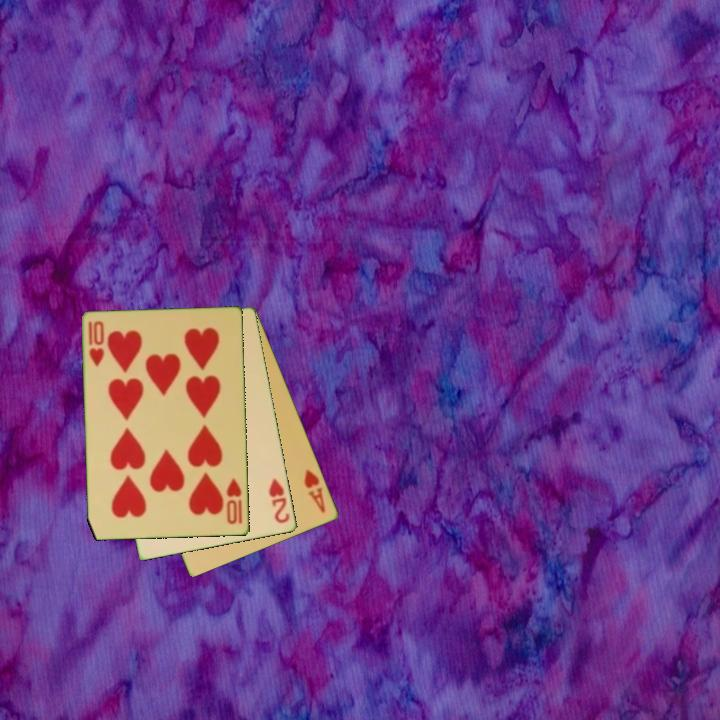10h: (85, 318, 108, 370), (223, 475, 245, 527)
2h: (265, 474, 293, 526)
Ah: (301, 465, 328, 516)
